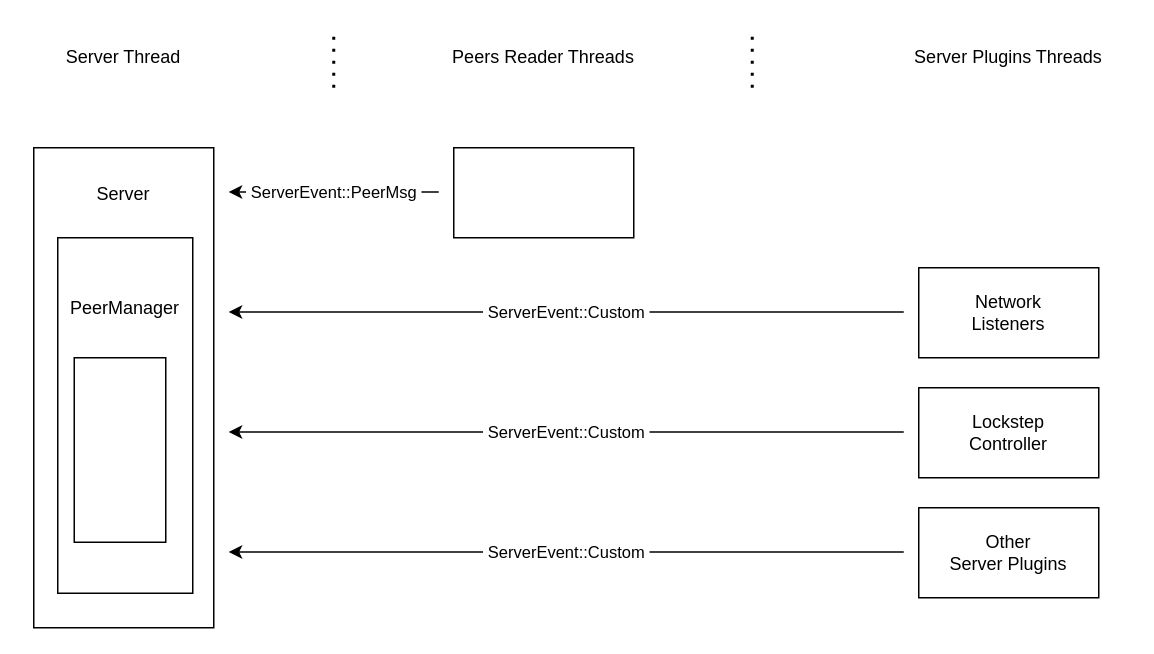
Some shapes in this 1154 by 654 pixel diagram are drawn without their labels. The centre of each missing label's shape, as x and y in pixels:
Peer Readers: [543,192]
Peers: [119,449]
